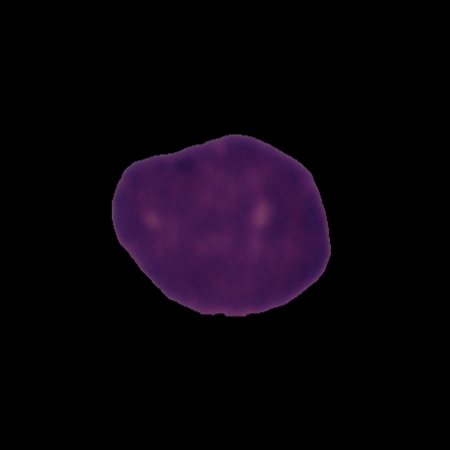HEM: (108, 130, 334, 321)
